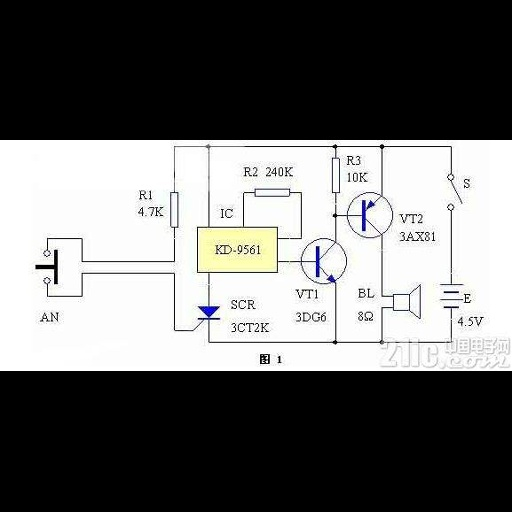battery: (437, 281, 464, 312)
firstresistance: (328, 155, 342, 199), (249, 186, 296, 199), (169, 189, 183, 231)
loudspeaker: (389, 282, 428, 320)
npn: (309, 241, 339, 282)
pnp: (357, 195, 382, 235)
